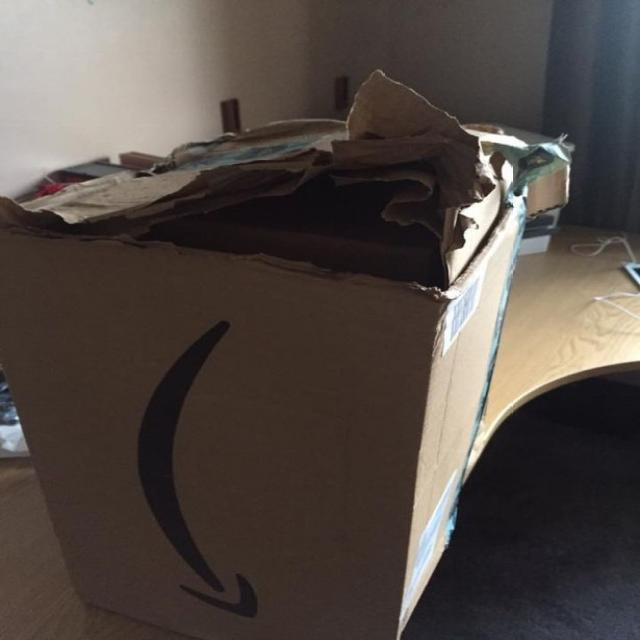damaged: (153, 136, 477, 329)
